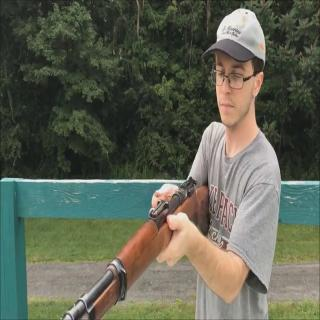gun: (57, 158, 205, 319)
